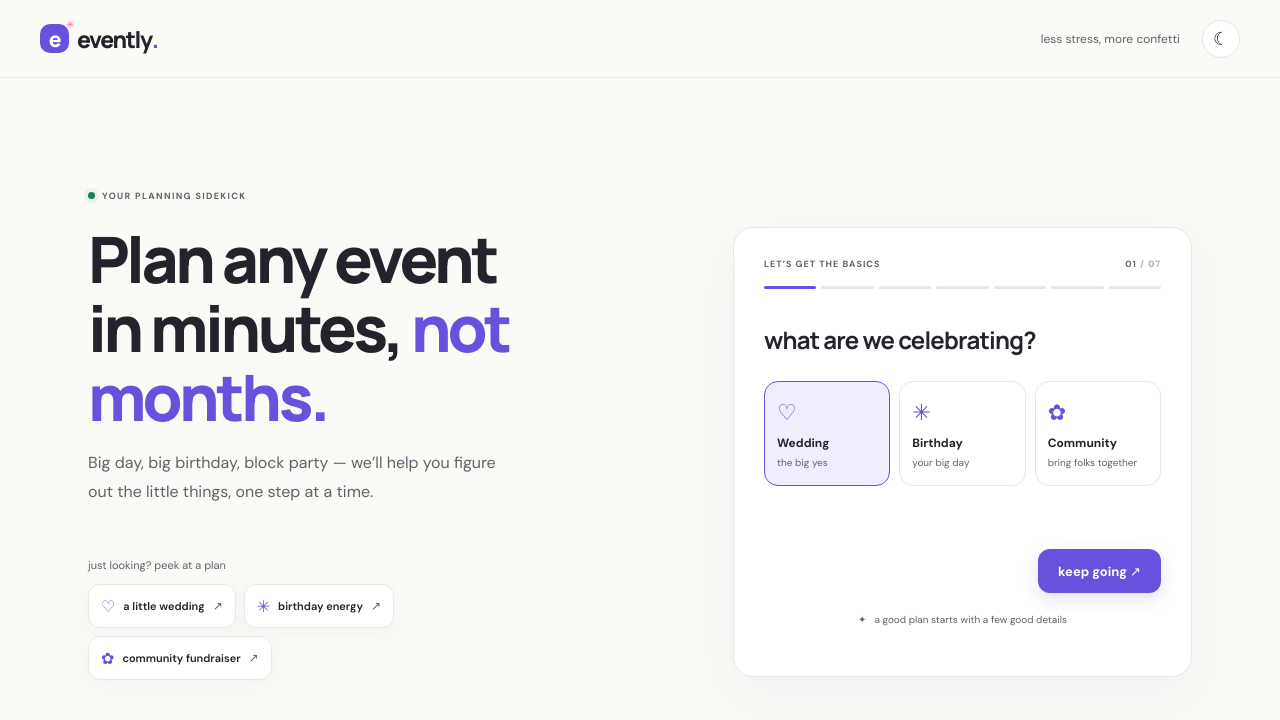
Test case: Evently interface › moves through onboarding validation
Click the button "keep going ↗".
click(1100, 571)  # box 1038,549 -> 1161,593
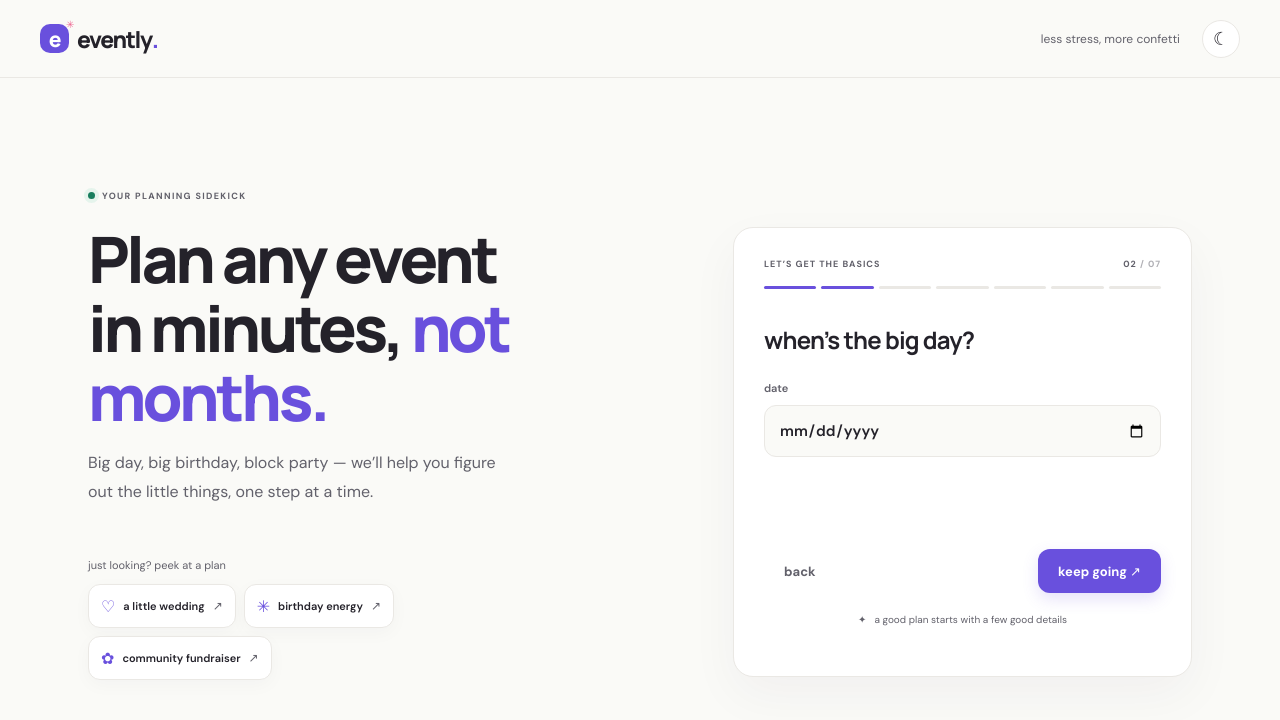
Click the button "keep going ↗".
click(1100, 571)  # box 1038,549 -> 1161,593
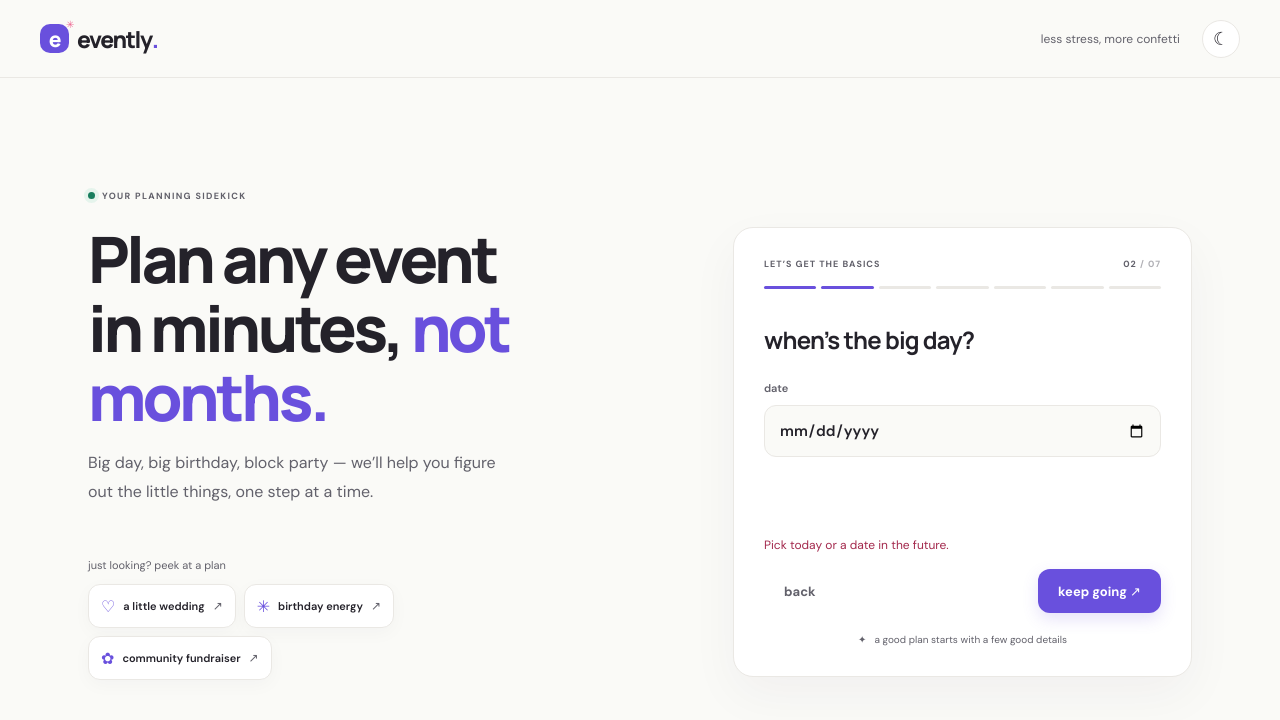
Expected: the text "Pick today or a date in the future." is shown, 764,537 -> 949,553
